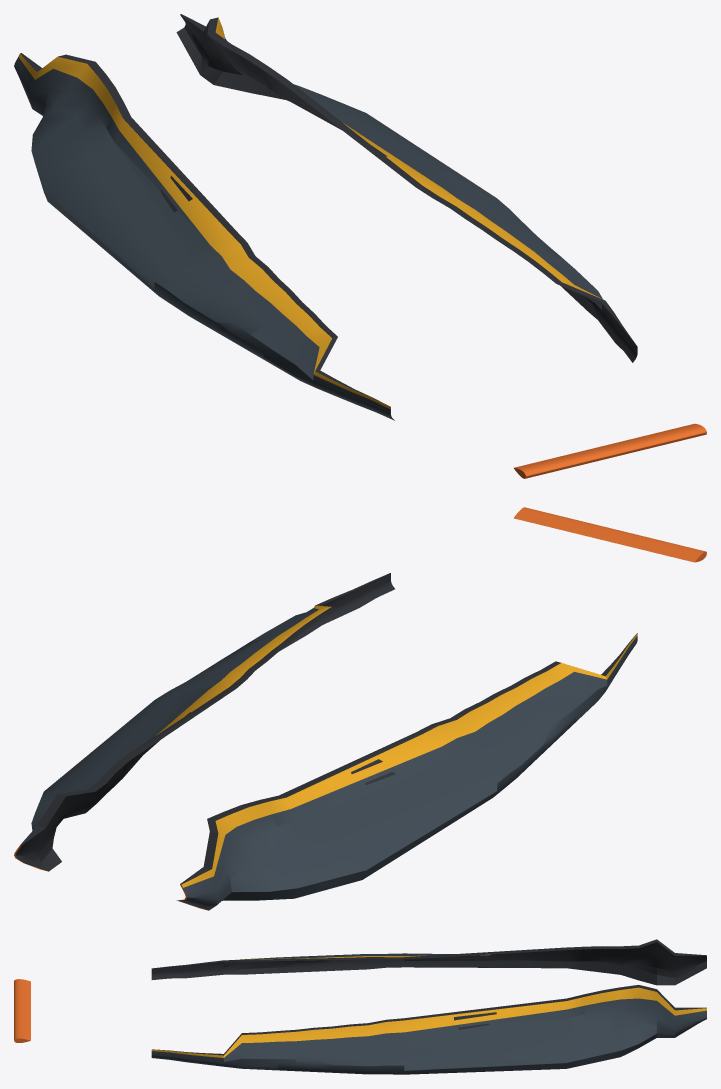
The model's file is bastion_armor_lg.fbx.
3 views of the same model, one above another, from view 1: azimuth 30°, elevation 25°; view 2: azimuth 150°, elevation 25°; view 3: azimuth 270°, elevation 25° (orthographic). The views are drawn at different scales.
Parts seen in each view (by area): view 1: Armor_Carapace; view 2: Armor_Carapace; view 3: Armor_Carapace.
Boxes of the visible parts, x1,y1,x2,y2 form: Armor_Carapace: (14,14,706,478); Armor_Carapace: (14,507,706,910); Armor_Carapace: (14,939,706,1074).
Size of the model in its own units: 274 by 62.88 by 715.
